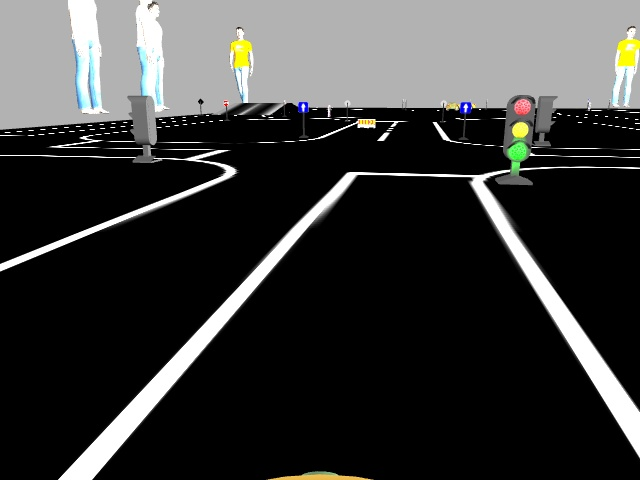ClosedRoadStand: (357, 118, 375, 128)
OneWay: (460, 101, 470, 112), (298, 101, 307, 112)
TrafficLight: (502, 94, 535, 163)
